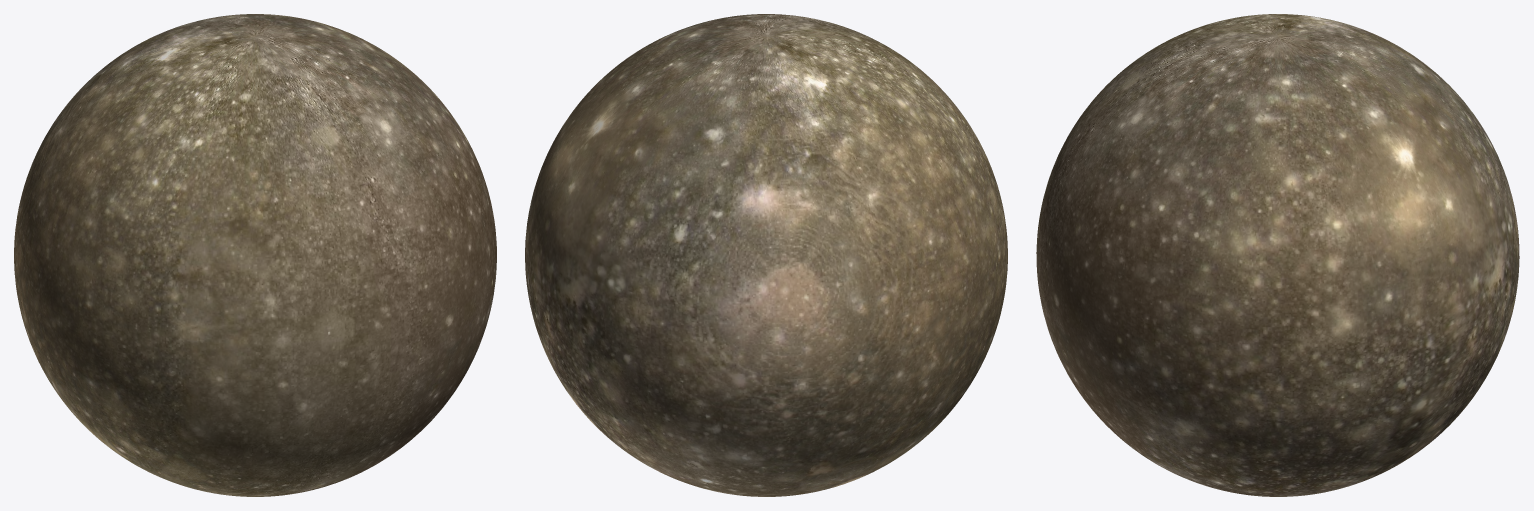
File: Calisto_Medium.fbx
3 views of the same model, side by side, from view 1: azimuth 30°, elevation 25°; view 2: azimuth 150°, elevation 25°; view 3: azimuth 270°, elevation 25° (orthographic).
Parts seen in each view (by area): view 1: Calisto_Medium; view 2: Calisto_Medium; view 3: Calisto_Medium.
Boxes of the visible parts, box(x1,y1,x2,y2) form: Calisto_Medium: box(14, 14, 496, 496); Calisto_Medium: box(525, 14, 1007, 496); Calisto_Medium: box(1036, 14, 1519, 496).
Bounding box in the file's own units: 200 × 200 × 200.
Materials: 1 (1 with a texture image).
